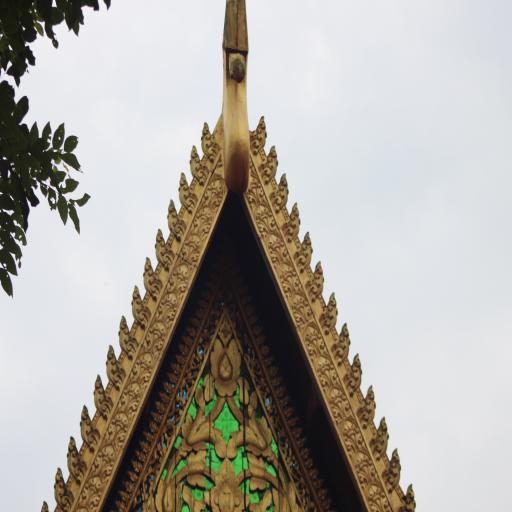la: (149, 456, 209, 512), (244, 461, 300, 512), (208, 330, 242, 405), (235, 402, 274, 463), (205, 459, 249, 512), (180, 404, 220, 456), (92, 446, 120, 476), (169, 263, 193, 294), (82, 475, 101, 512), (107, 414, 133, 440), (332, 385, 352, 418), (292, 290, 310, 326), (280, 258, 298, 294), (318, 353, 336, 388), (267, 231, 286, 264), (120, 382, 143, 409), (304, 324, 323, 356), (368, 482, 388, 512), (356, 448, 372, 484), (342, 420, 360, 452), (144, 324, 165, 351), (158, 296, 178, 324), (257, 201, 274, 233), (134, 351, 154, 378), (204, 181, 223, 209), (184, 234, 204, 260), (195, 210, 215, 234), (250, 174, 264, 207)
lua: (383, 447, 406, 488), (370, 414, 392, 456), (332, 323, 354, 362), (320, 290, 340, 331), (116, 316, 134, 361), (359, 384, 377, 426), (130, 282, 147, 326), (144, 255, 159, 303), (167, 196, 184, 238), (190, 144, 207, 186), (79, 406, 96, 447), (106, 344, 122, 387), (200, 121, 219, 157), (346, 353, 364, 391), (154, 229, 170, 271), (92, 375, 110, 412), (262, 145, 280, 181), (52, 469, 68, 509), (66, 434, 81, 476), (308, 261, 325, 298), (177, 173, 193, 212), (272, 173, 290, 206), (284, 202, 300, 238), (251, 116, 266, 154), (298, 234, 313, 268), (399, 490, 414, 512)
